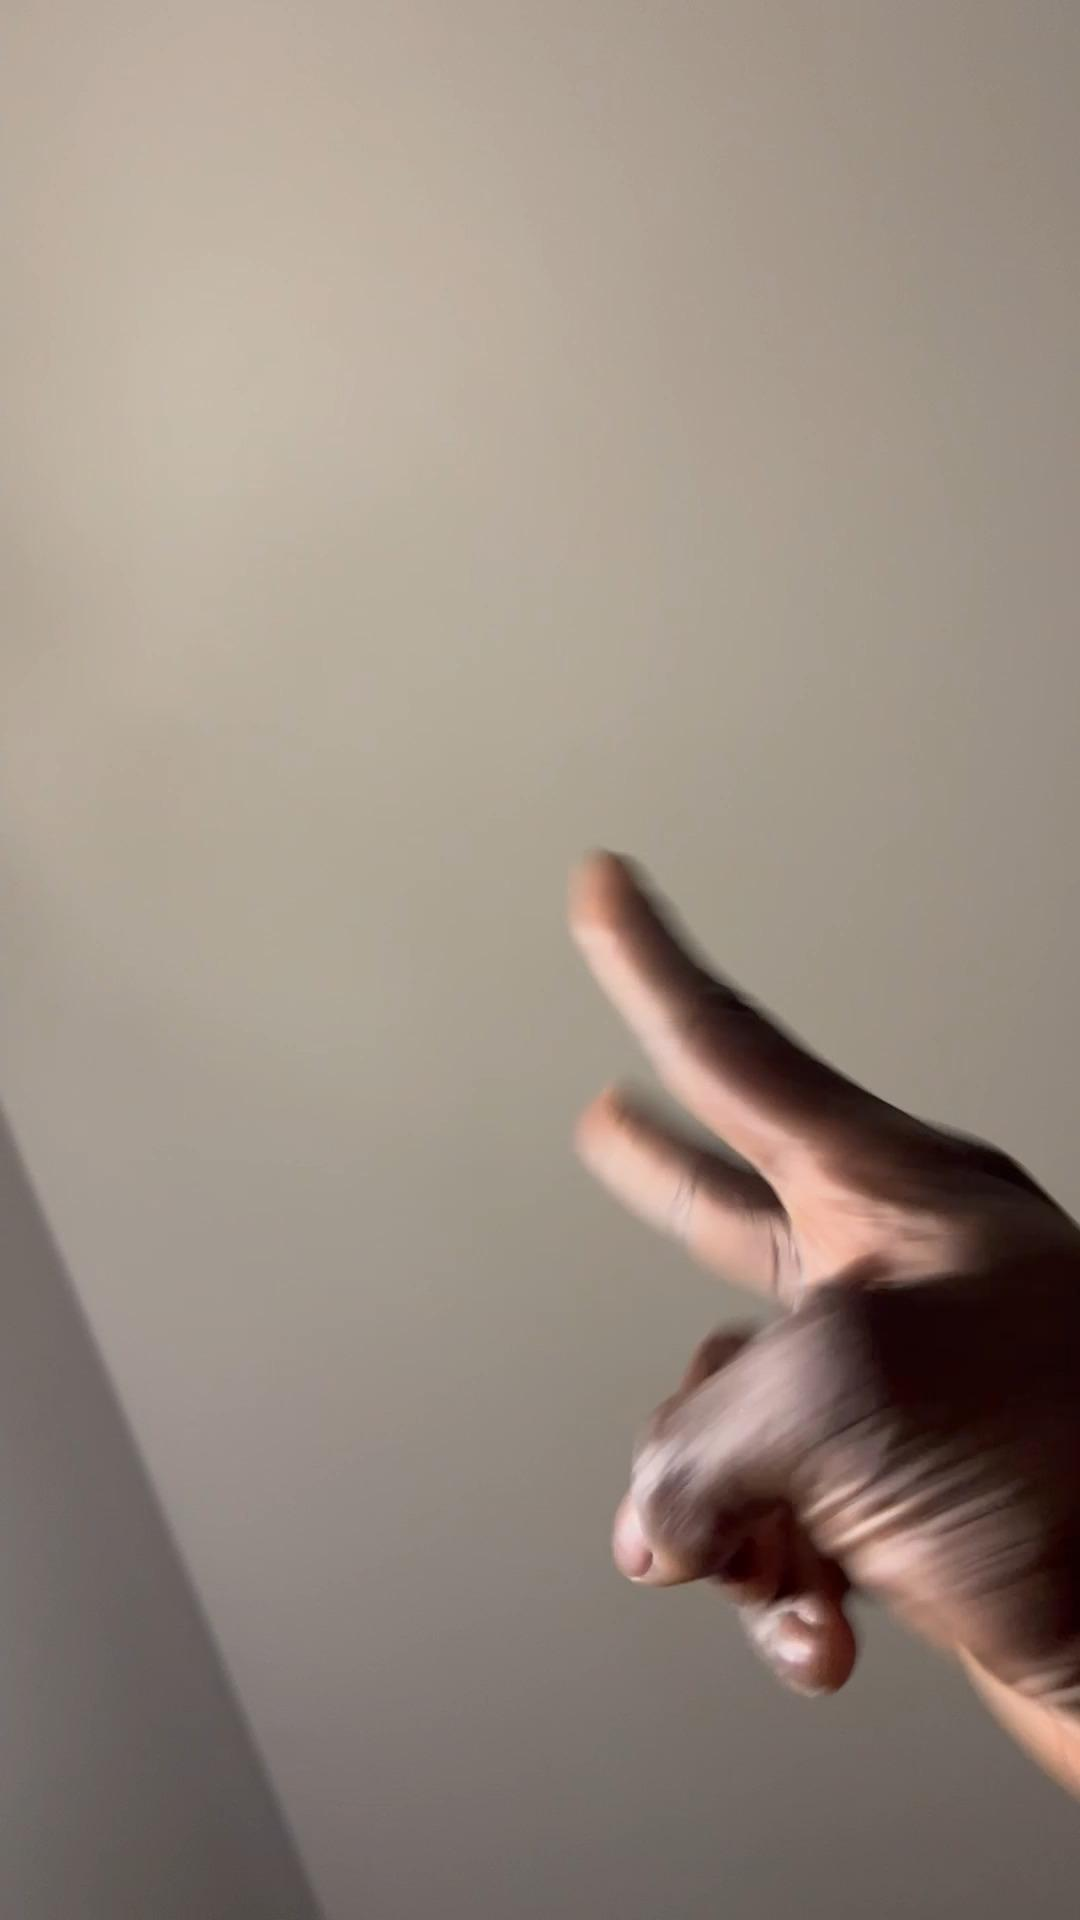Scissors: (567, 853, 1080, 1788)
